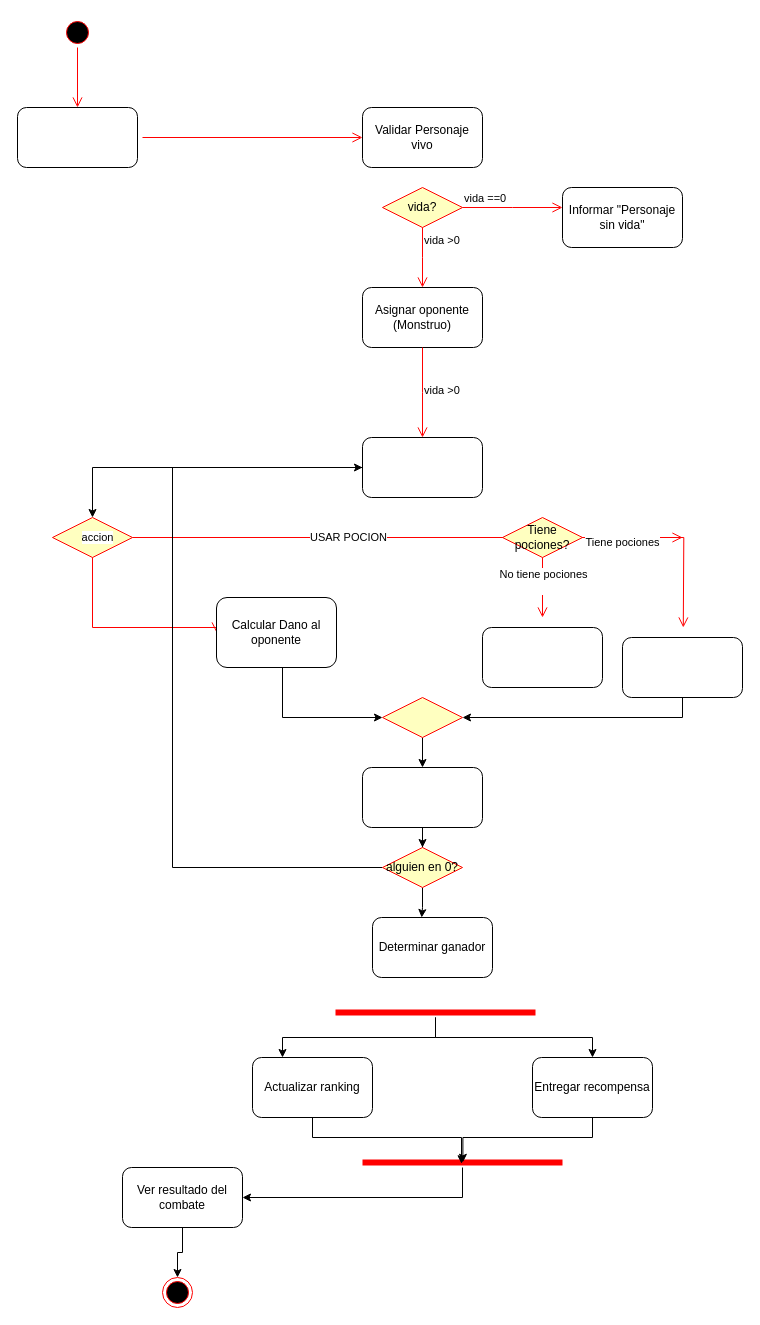
Image size: 760x1325. Some labels were removed from this diagram. The centre of each missing label's shape, as x and y in pixels:
"Ejecutar turno del oponente" goes at point 422,797.
"Informar sin pociones" goes at point 542,657.
"Iniciar Ronda" goes at point 422,467.
"Restaurar vida del personaje" goes at point 682,667.
"Seleccionar personaje" goes at point 77,137.
